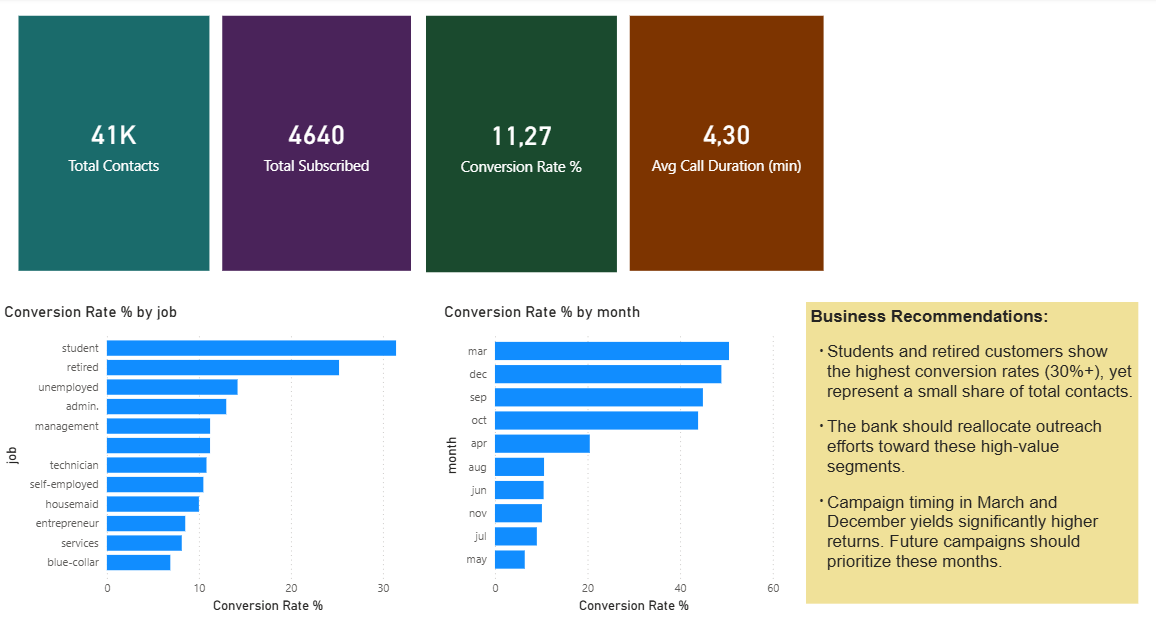

Layout of this report page (visuals, bound fields, positions):
{"tool":"powerbi","page":{"name":"Executive Summary","canvas":[1280,720],"ordinal":0},"visuals":[{"type":"card","fields":{"Values":["_measure.Total Contacts"]},"box":[10,0,280,280],"z":0},{"type":"card","fields":{"Values":["_measure.Total Contacts"]},"box":[20,10,280,280],"z":1},{"type":"card","fields":{"Values":["_measure.Total Contacts"]},"box":[29.6,20.4,209.3,279.6],"z":2},{"type":"card","fields":{"Values":["_measure.Conversion Rate %"]},"box":[477.8,20.4,209.3,281.5],"z":3},{"type":"card","fields":{"Values":["_measure.Avg Call Duration (min)"]},"box":[701.9,20.4,213,279.6],"z":4},{"type":"card","fields":{"Values":["_measure.Total Subscribed"]},"box":[253.7,20.4,207.4,279.6],"z":5},{"type":"clusteredBarChart","fields":{"Category":["bank_campaign.job"],"Y":["_measure.Conversion Rate %"]},"box":[9.3,335.2,483.3,346.3],"z":6},{"type":"clusteredBarChart","fields":{"Category":["bank_campaign.month"],"Y":["_measure.Conversion Rate %"]},"box":[492.6,335.2,377.8,346.3],"z":7},{"type":"textbox","box":[894.4,335.2,364.8,331.5],"z":8}]}

Visuals, with their boxes in screenshot pixels (x1, y1, x2, y2), scaled from the page's 1280x720 canvas onto the 1156x641 screenshot:
card - _measure.Total Contacts: locate(9, 0, 262, 249)
card - _measure.Total Contacts: locate(18, 9, 271, 258)
card - _measure.Total Contacts: locate(27, 18, 216, 267)
card - _measure.Conversion Rate %: locate(432, 18, 621, 269)
card - _measure.Avg Call Duration (min): locate(634, 18, 826, 267)
card - _measure.Total Subscribed: locate(229, 18, 416, 267)
clusteredBarChart - bank_campaign.job x _measure.Conversion Rate %: locate(8, 298, 445, 607)
clusteredBarChart - bank_campaign.month x _measure.Conversion Rate %: locate(445, 298, 786, 607)
textbox: locate(808, 298, 1137, 594)
